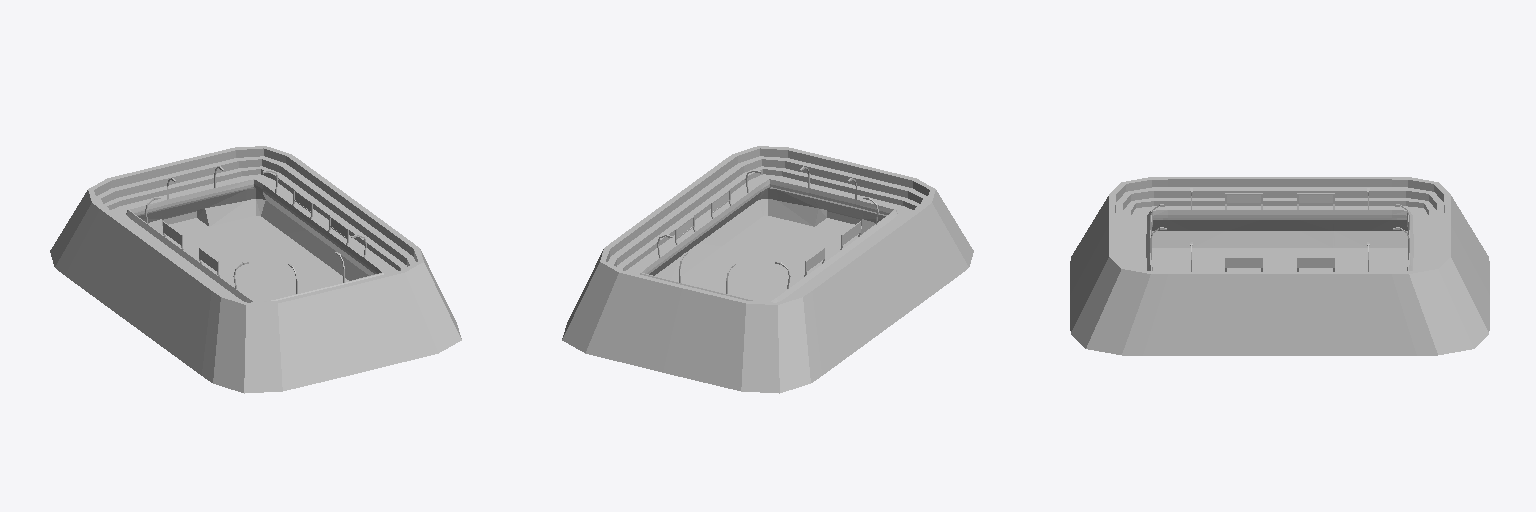
File: escenario2.obj
3 views of the same model, side by side, from view 1: azimuth 30°, elevation 25°; view 2: azimuth 150°, elevation 25°; view 3: azimuth 270°, elevation 25° (orthographic).
Visible parts, largest first — view 1: escenario__6_:pCube1; view 2: escenario__6_:pCube1; view 3: escenario__6_:pCube1.
Part boxes in pixels (x1,y1,x2,y2): escenario__6_:pCube1: (50,146,461,393); escenario__6_:pCube1: (562,146,973,393); escenario__6_:pCube1: (1070,177,1489,355).
Size of the model in its own units: 305 by 94.62 by 452.